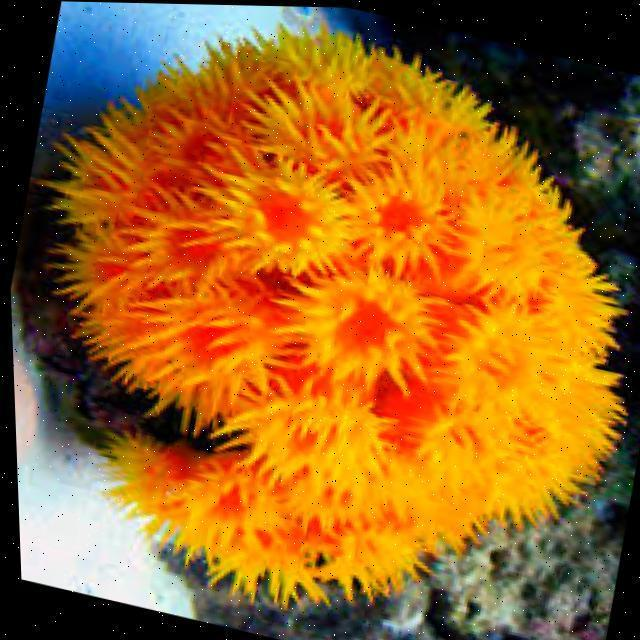Healthy Coral: (59, 28, 622, 596)
